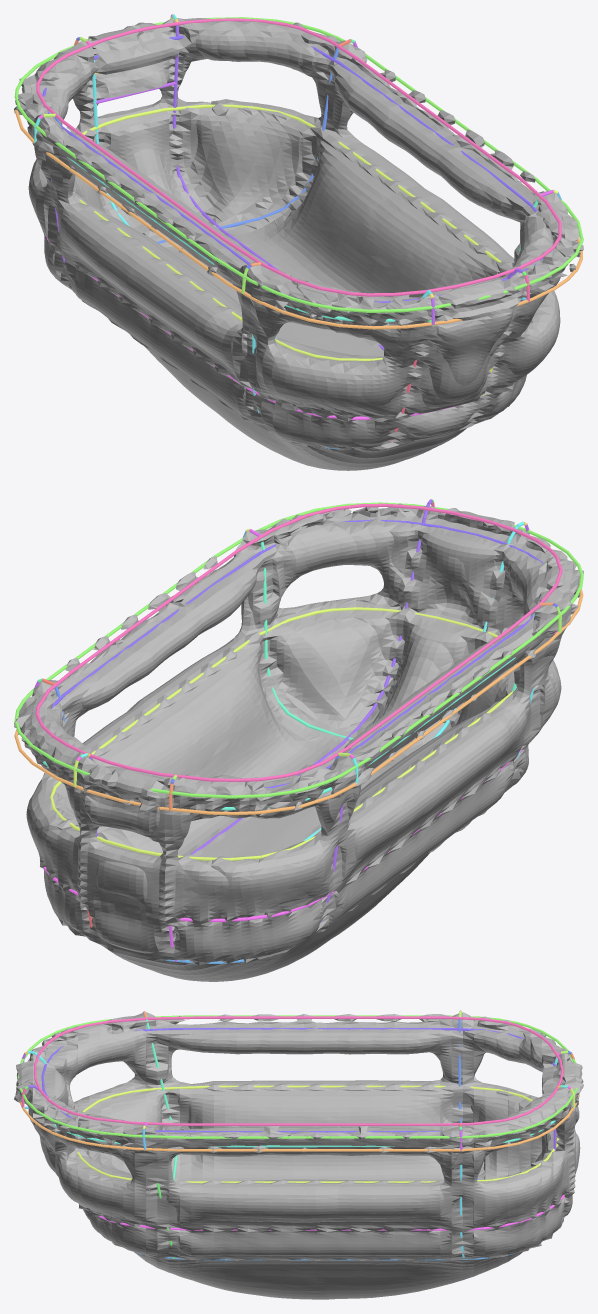
Rendered from flowrep_bathtub.gltf.
The picture shows the model from 3 angles, top to bottom: view 1: azimuth 30°, elevation 25°; view 2: azimuth 150°, elevation 25°; view 3: azimuth 270°, elevation 25°; orthographic projection. The views are drawn at different scales.
Bounding box in the file's own units: 0.4494 × 0.3751 × 0.8769.
